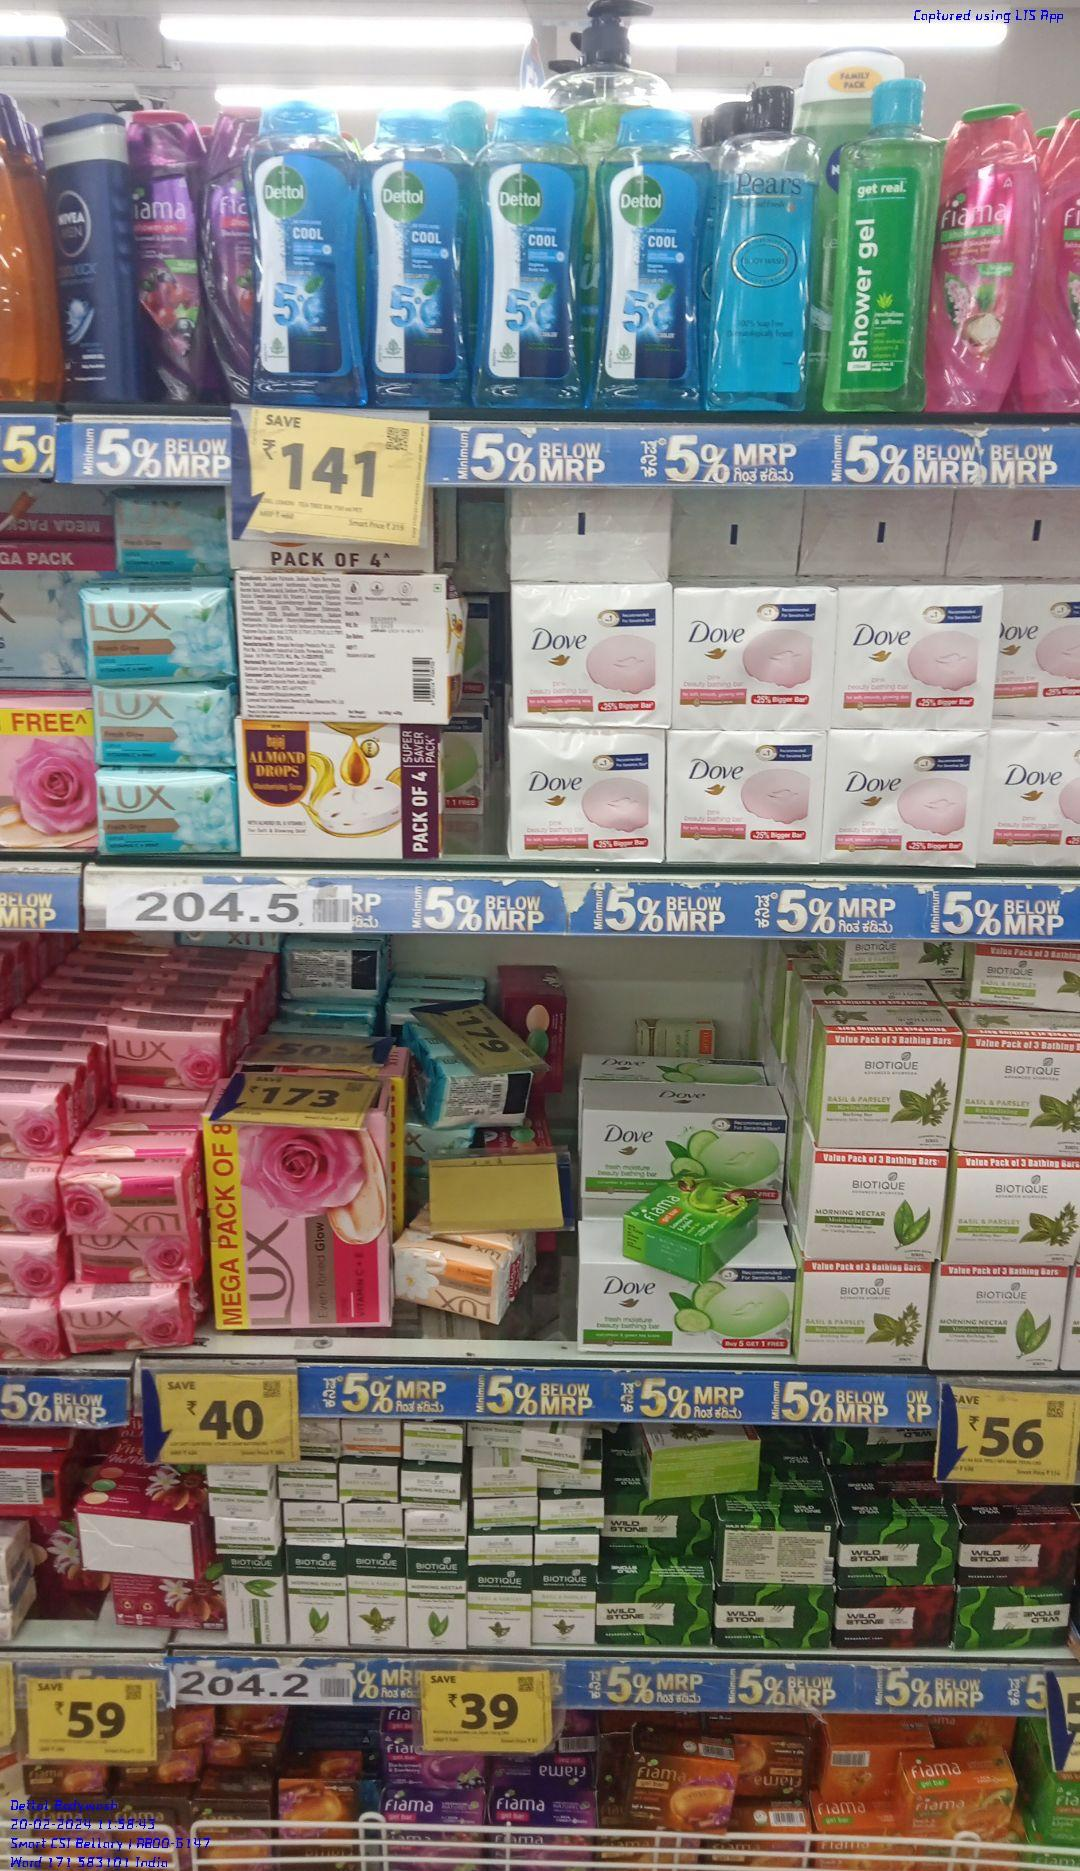Dettol_Bodywash_Cool: (244, 95, 366, 407), (478, 107, 591, 407), (600, 112, 701, 407), (373, 122, 460, 406)
Fiama_Shower_Gel_Patchouli_and_Macadamia_250ML: (936, 99, 1038, 411)
Pears_Pure_Glycerin_and_Mint_Extracts_Body_Wash_250ML: (712, 80, 807, 411)
